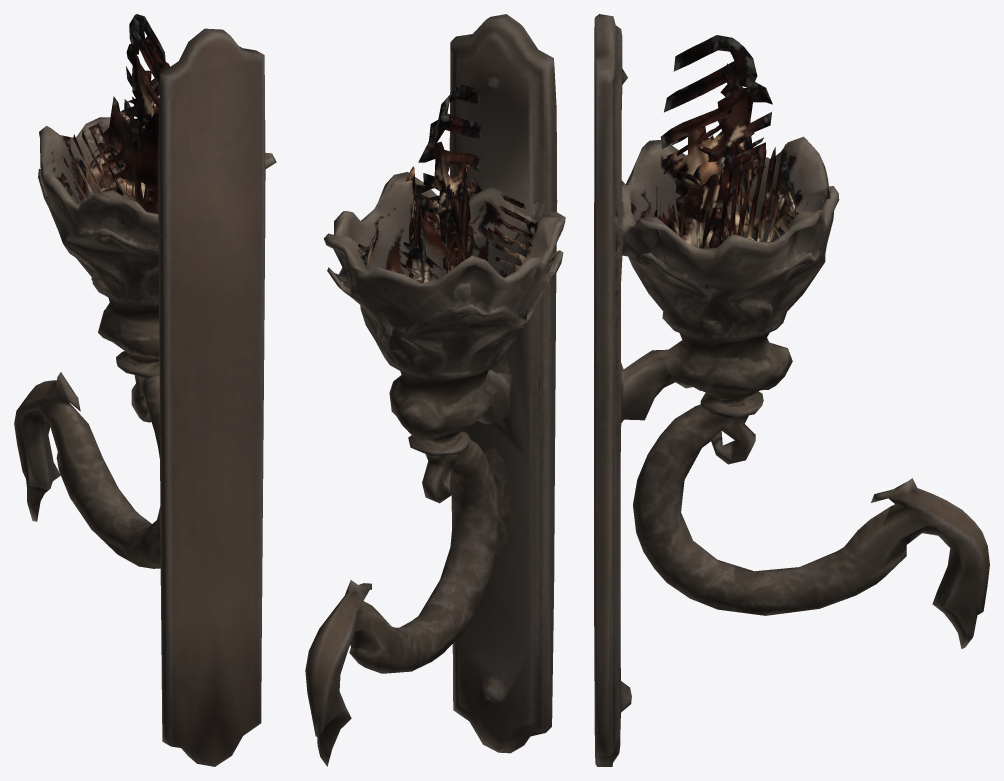
File: torch.glb
3 renders of one model, left to right at view 1: azimuth 30°, elevation 25°; view 2: azimuth 150°, elevation 25°; view 3: azimuth 270°, elevation 25°, orthographic. The views are drawn at different scales.
Visible parts, largest first — view 1: torch; view 2: torch; view 3: torch.
Part boxes in pixels (x1,y1,x2,y2): torch: [14, 14, 276, 766]; torch: [305, 14, 565, 766]; torch: [594, 14, 989, 766].
Size of the model in its own units: 0.2544 by 0.9 by 0.4319.
1 material, 1 textured.
